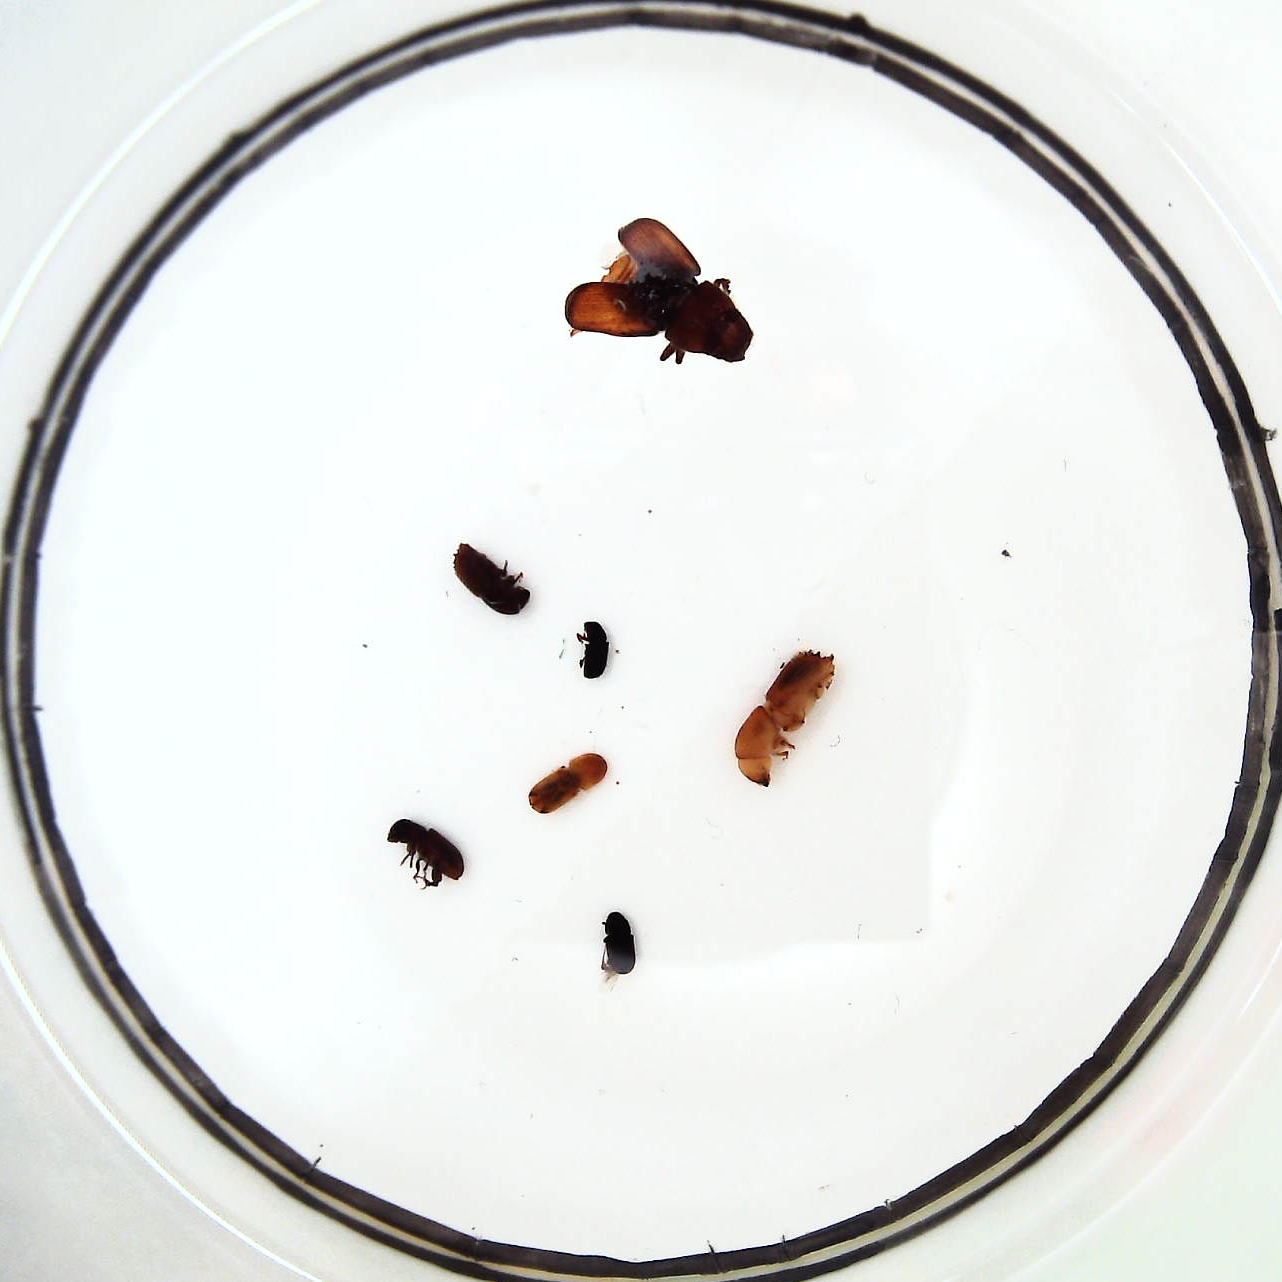Boerner: (735, 649, 832, 787)
Leconte: (565, 215, 756, 360)
Linnaeus: (450, 544, 529, 615)
acuminatus: (526, 754, 610, 816)
armandi: (387, 818, 463, 888)
coleoptera: (601, 910, 636, 974), (576, 621, 613, 676)
